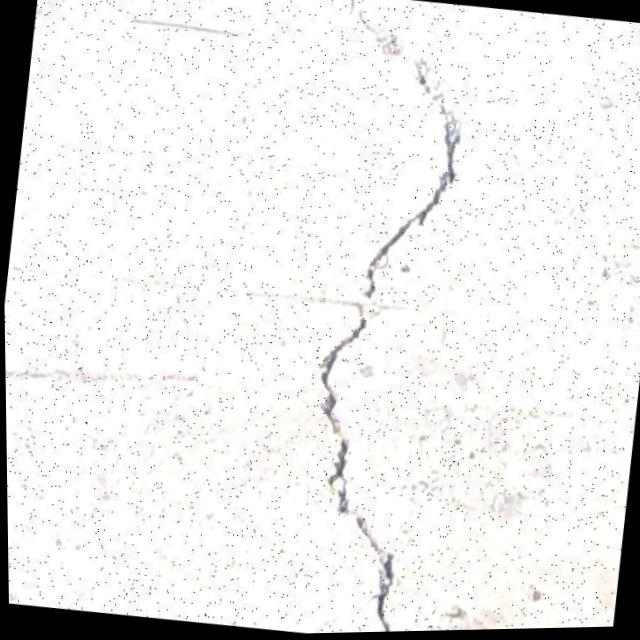Crack: (238, 0, 521, 636)
